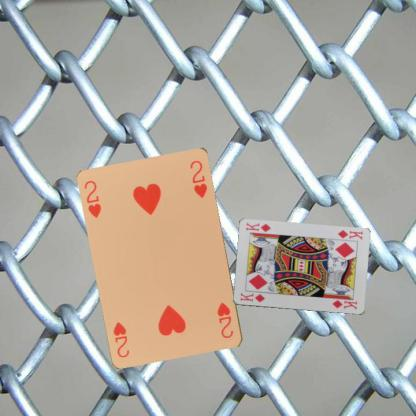2h: (81, 178, 103, 220), (215, 300, 235, 340)
Kd: (237, 290, 266, 303), (335, 228, 364, 241)
